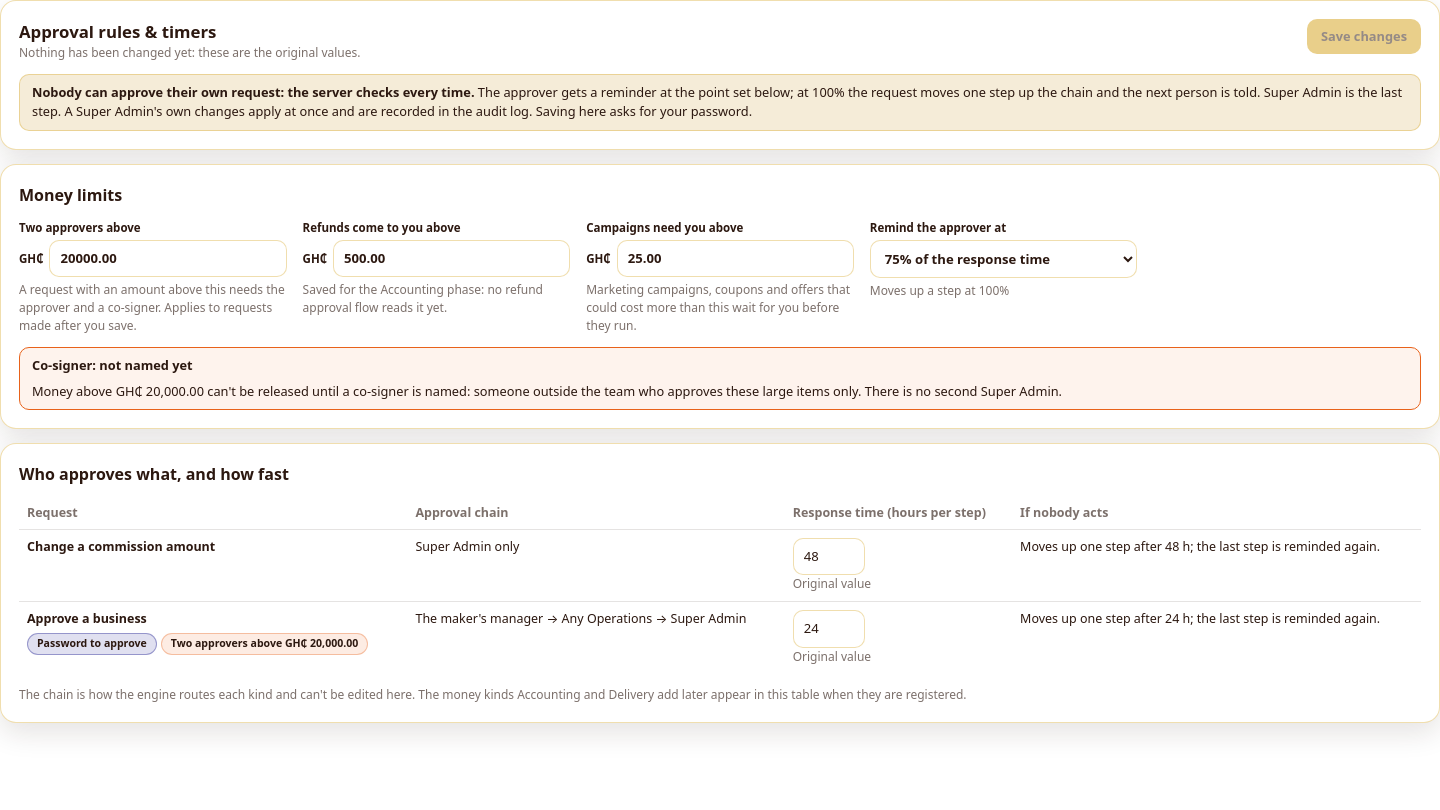
Test case: ApprovalRulesPanel › sends only what changed, then shows the saved notice
Replace the text in the field named "Two approvers above (GH₵)" with "30,000.00". click: (168, 259)
box: [50,240,287,278]
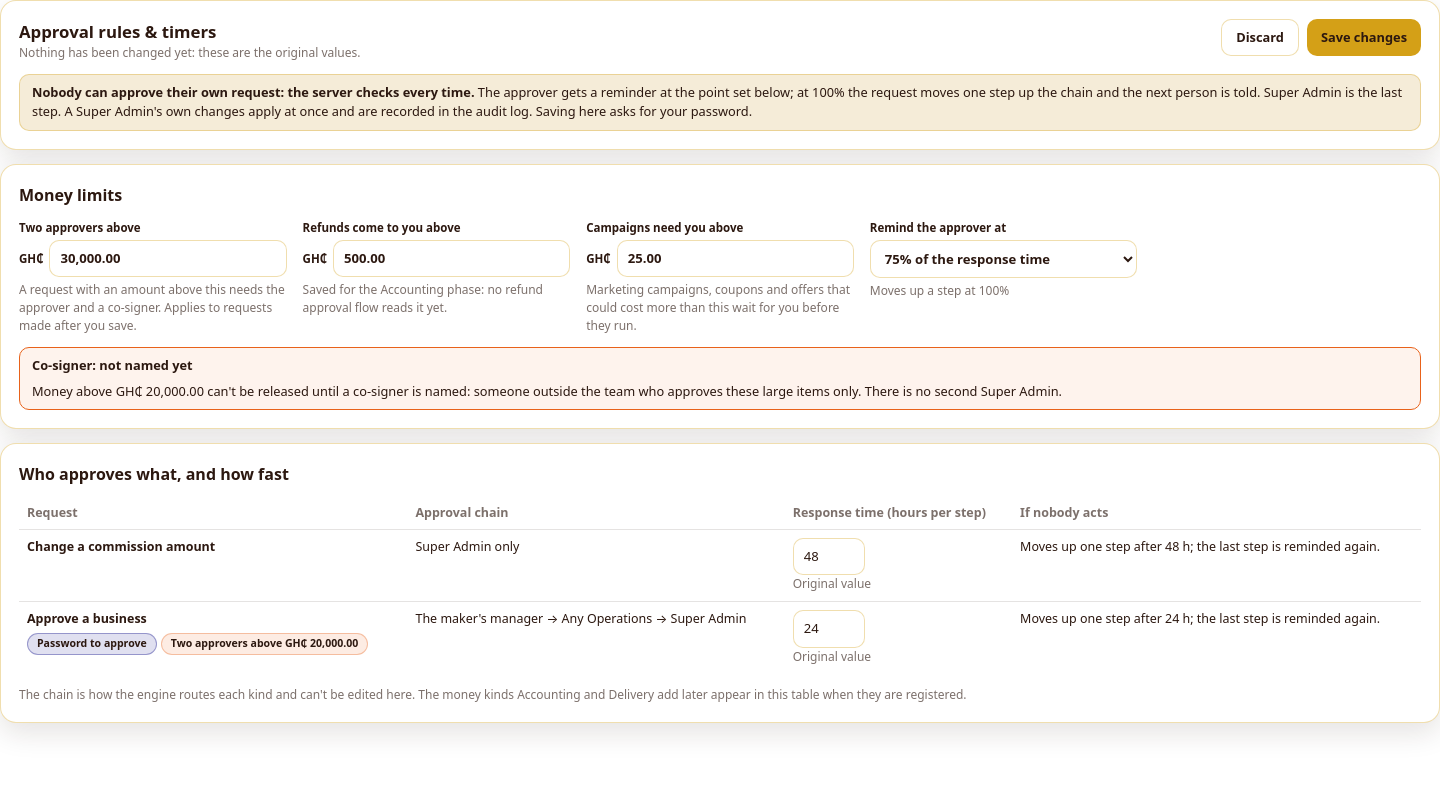
Replace the text in the field named "Response time for Approve a business (hours)" with "6". click: (829, 629)
box: [793,610,865,648]
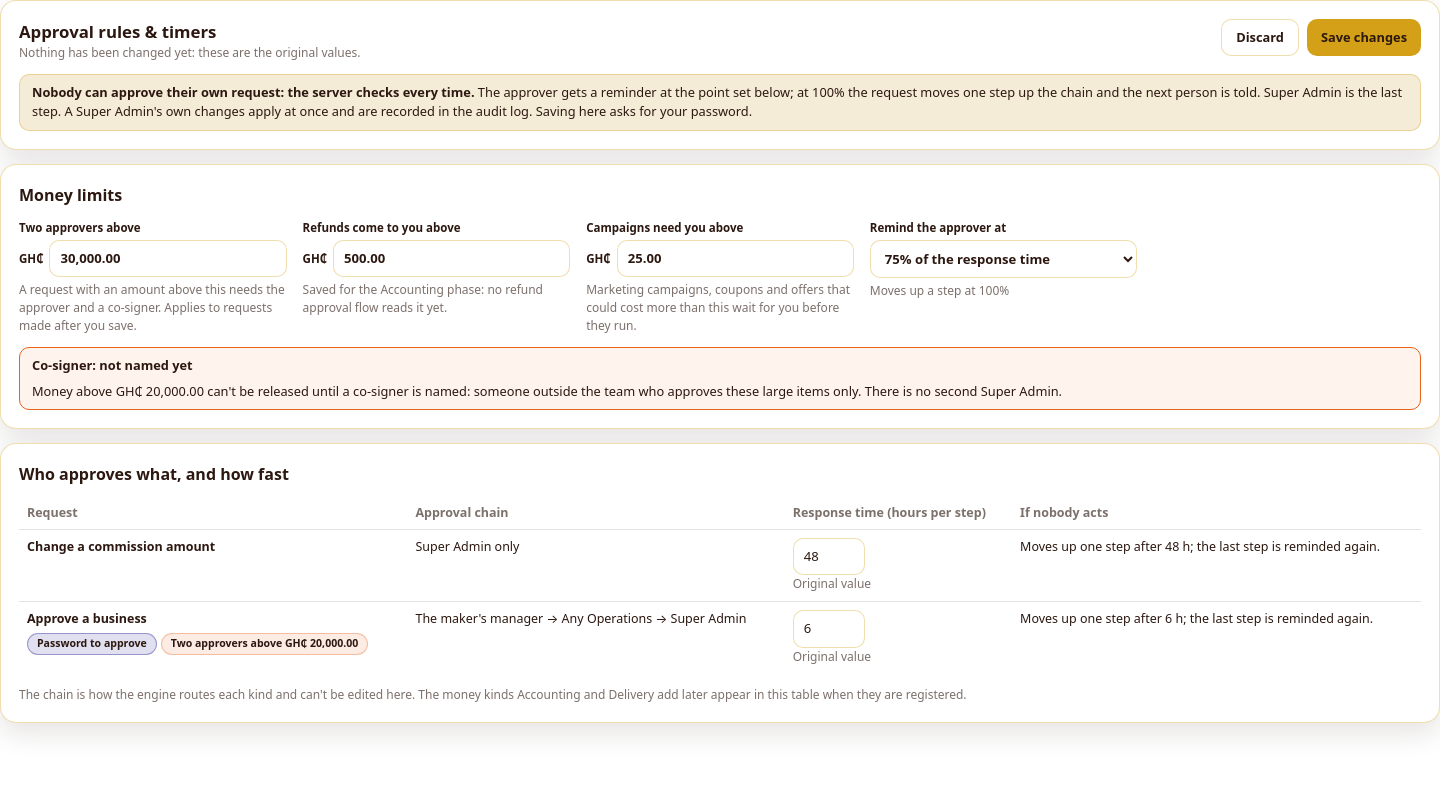
Select "50% of the response time" in the dropdown labelled "Remind the approver at Moves up a step at 100%". click: (1004, 259)
box: [870,240,1137,278]
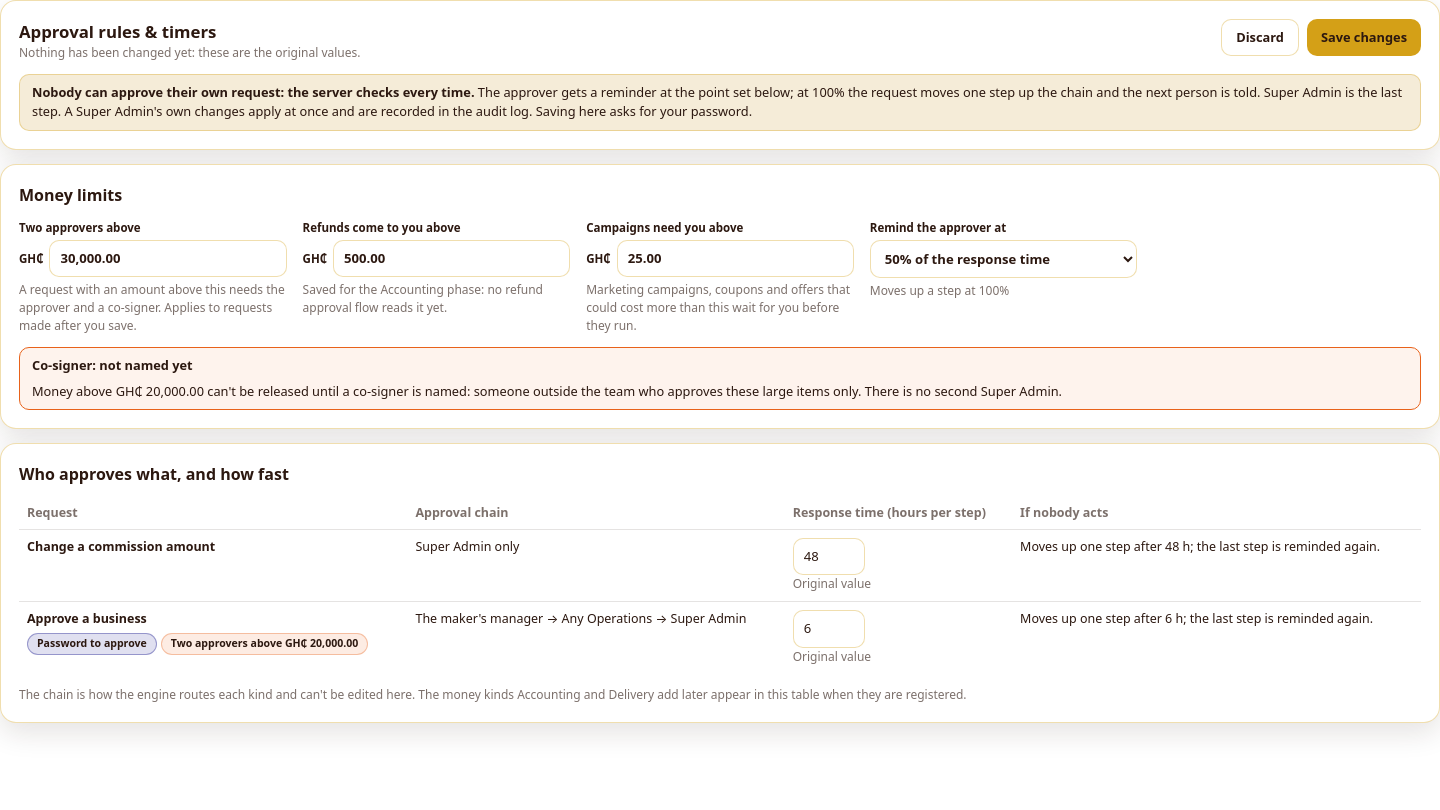
Click the button "Save changes". click: (1364, 38)
box: [1307,19,1421,56]
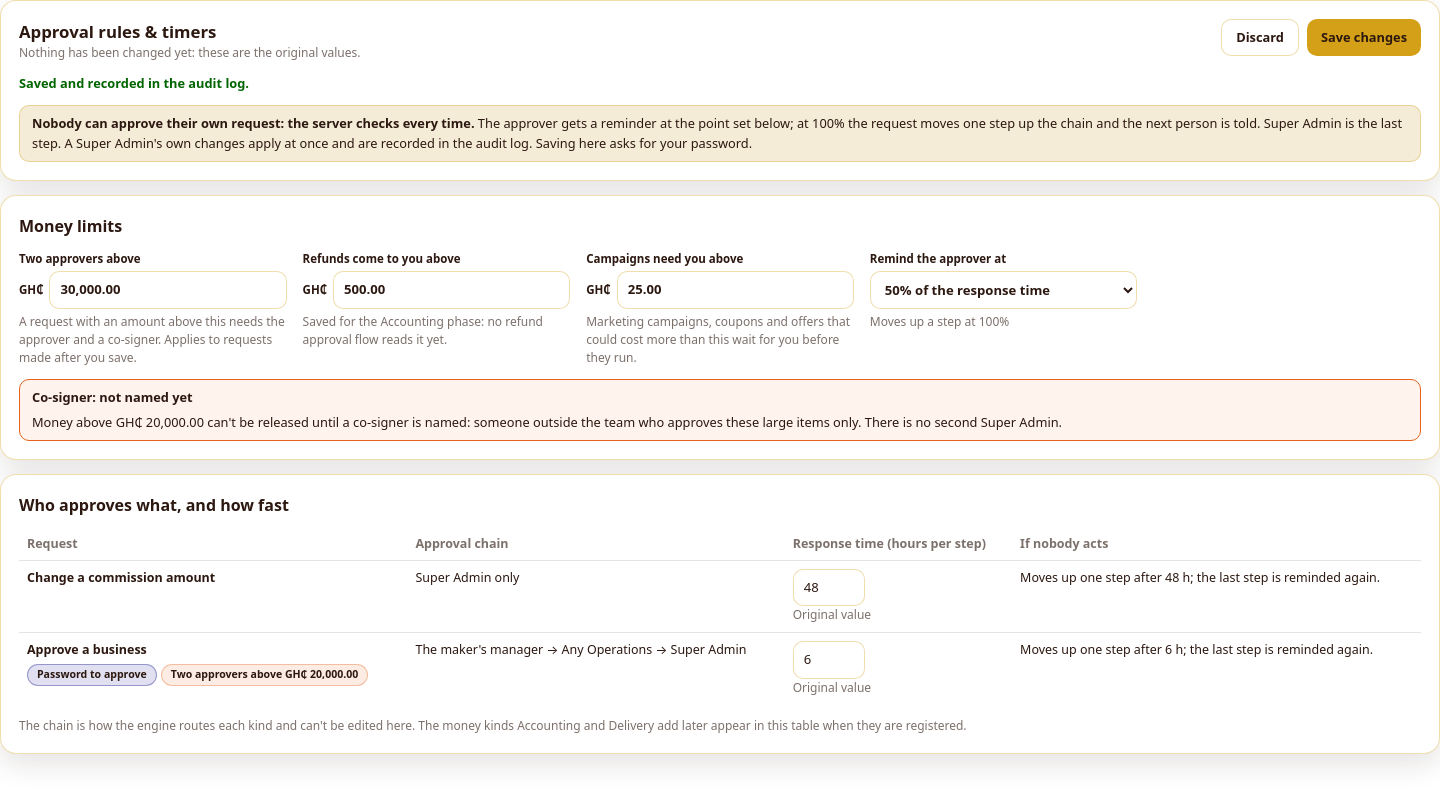
expect the text "Saved and recorded in the audit log." is shown: met, box [19,74,249,92]
